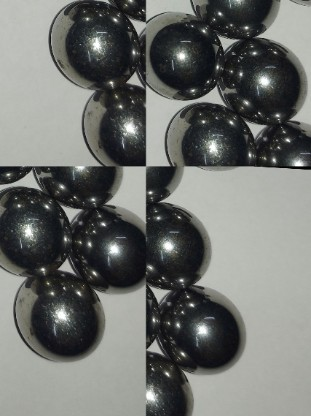ironball: (7, 268, 106, 364), (153, 284, 248, 376), (214, 33, 308, 125), (50, 0, 136, 93), (146, 7, 224, 104), (62, 204, 142, 294), (143, 199, 217, 288), (0, 185, 70, 278), (82, 78, 147, 164), (163, 101, 253, 163), (32, 163, 128, 211), (185, 0, 284, 38), (145, 348, 195, 413), (249, 118, 309, 168), (142, 161, 193, 207)
